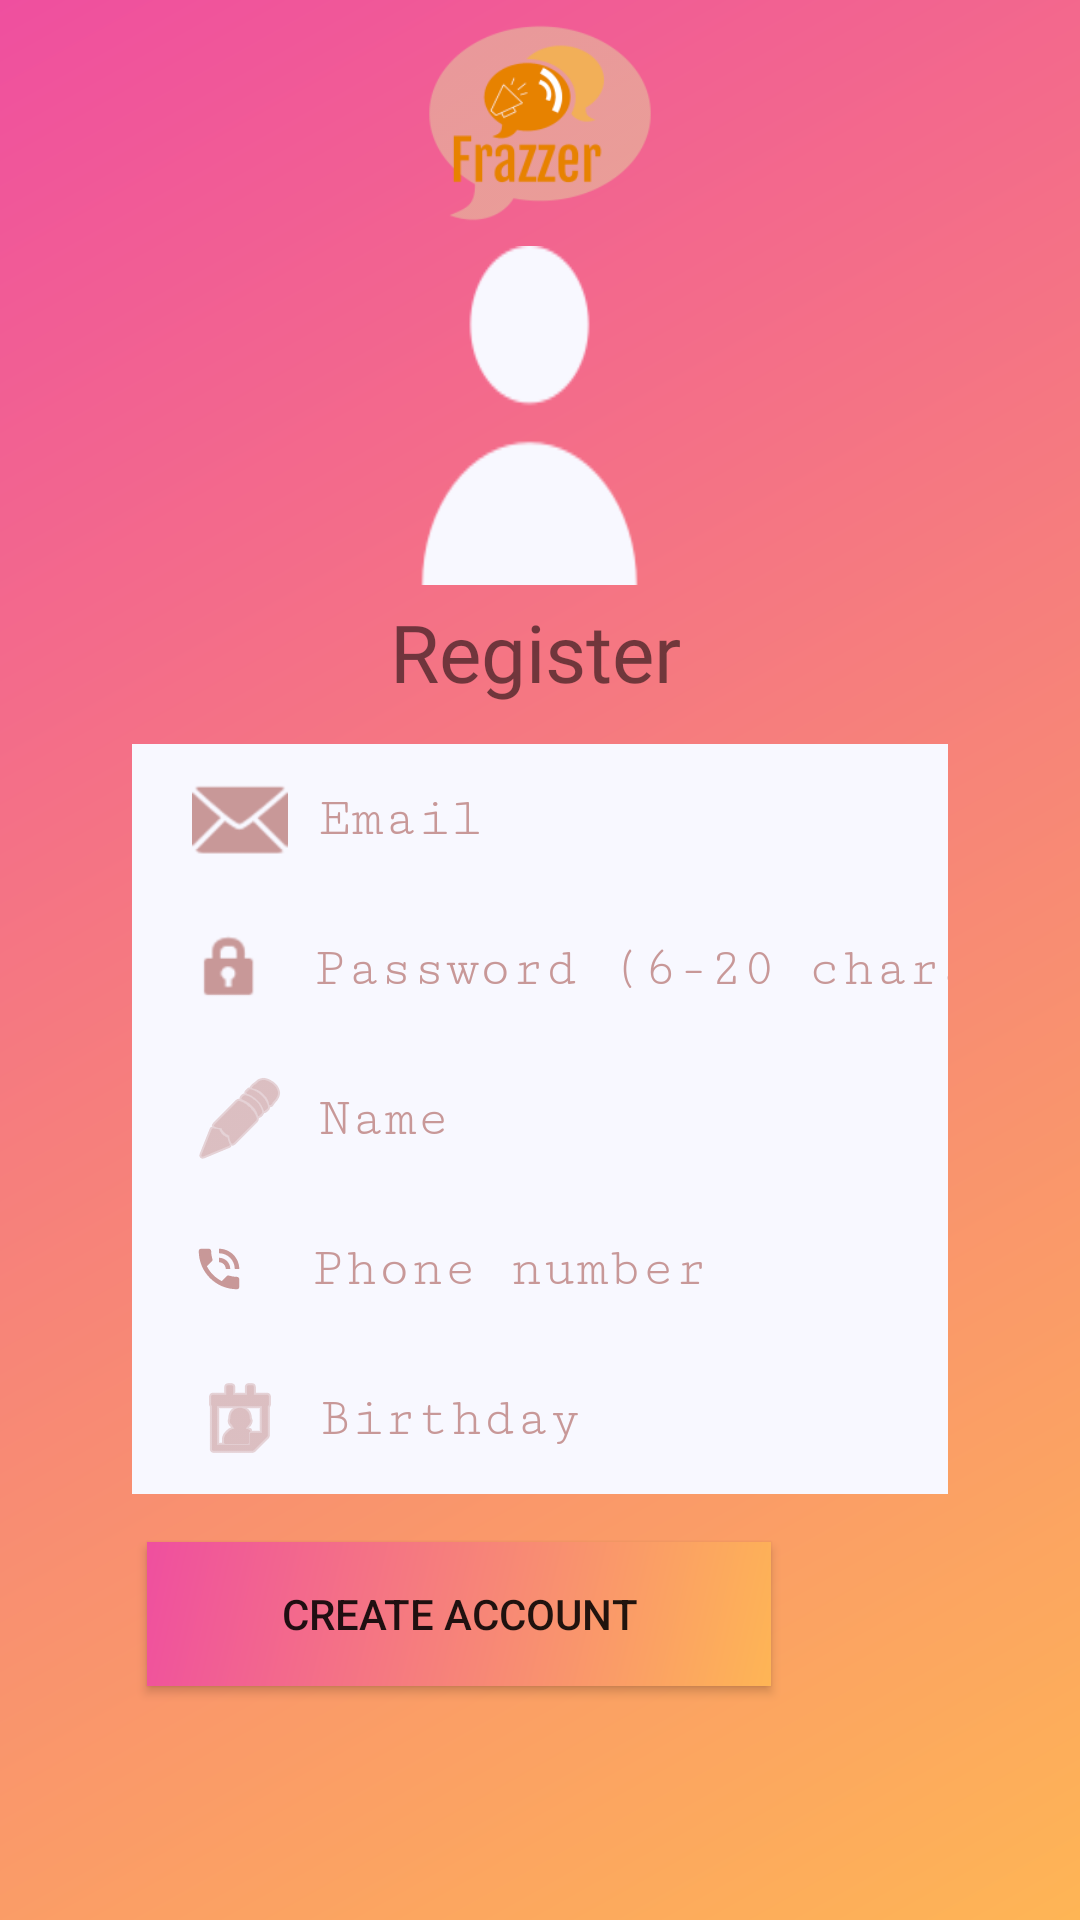

Point at icon controls on the screen. Image size 1080px x 1920px, points as (x,y).
user: (529,415)
